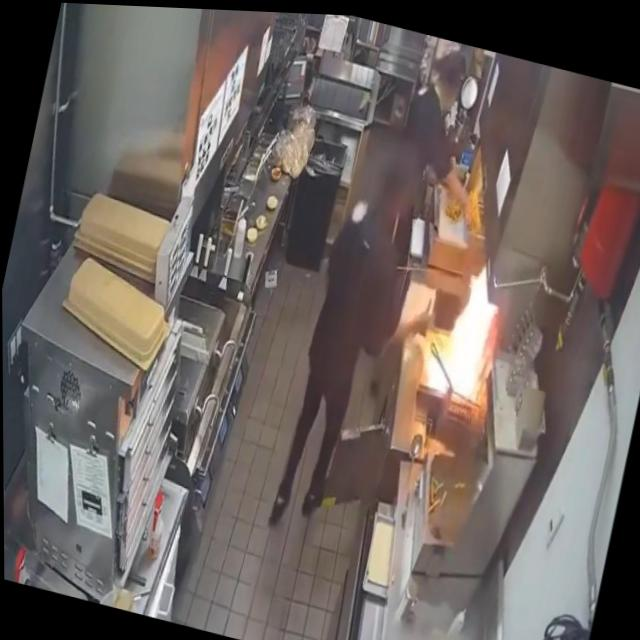fire: (416, 235, 516, 417)
